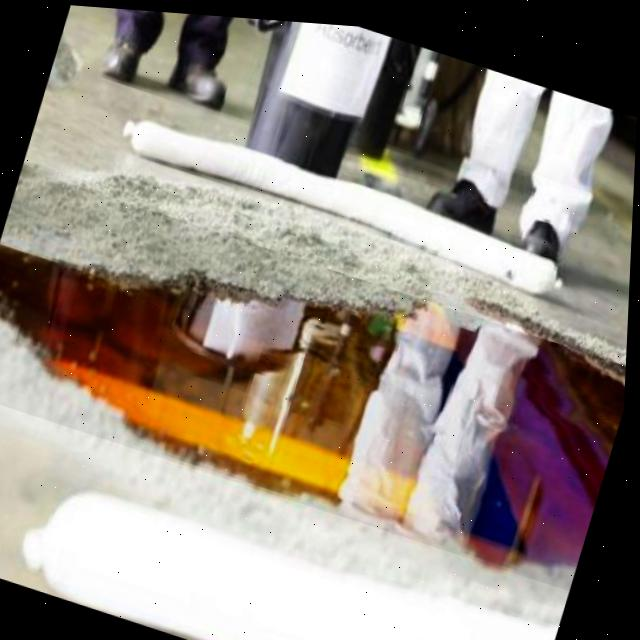spillage: (0, 246, 628, 560)
